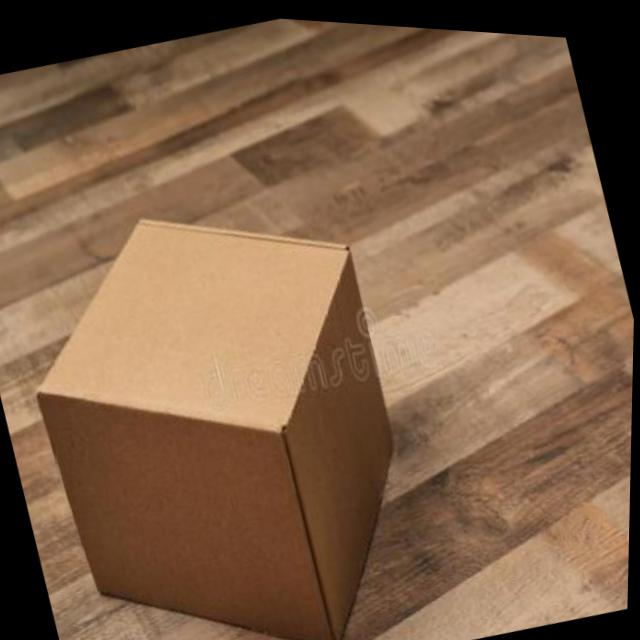box: (0, 92, 482, 640)
